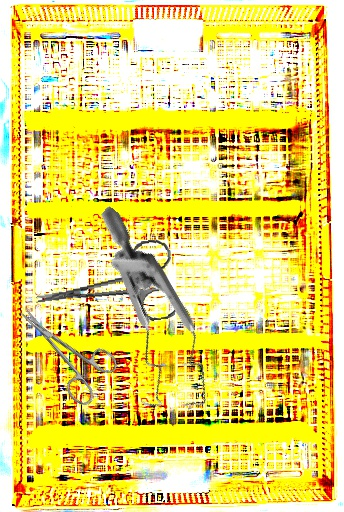Iris Scissors: (2, 287, 126, 410), (30, 237, 180, 337)
Speculum: (25, 205, 265, 434)
